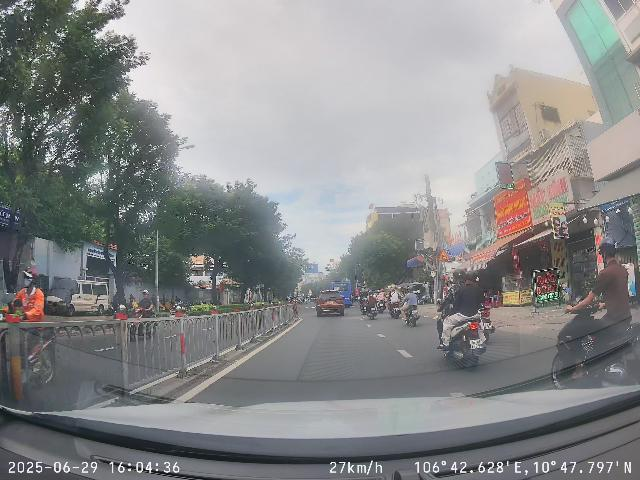225-chu-y-tre-em: (438, 249, 450, 260)
